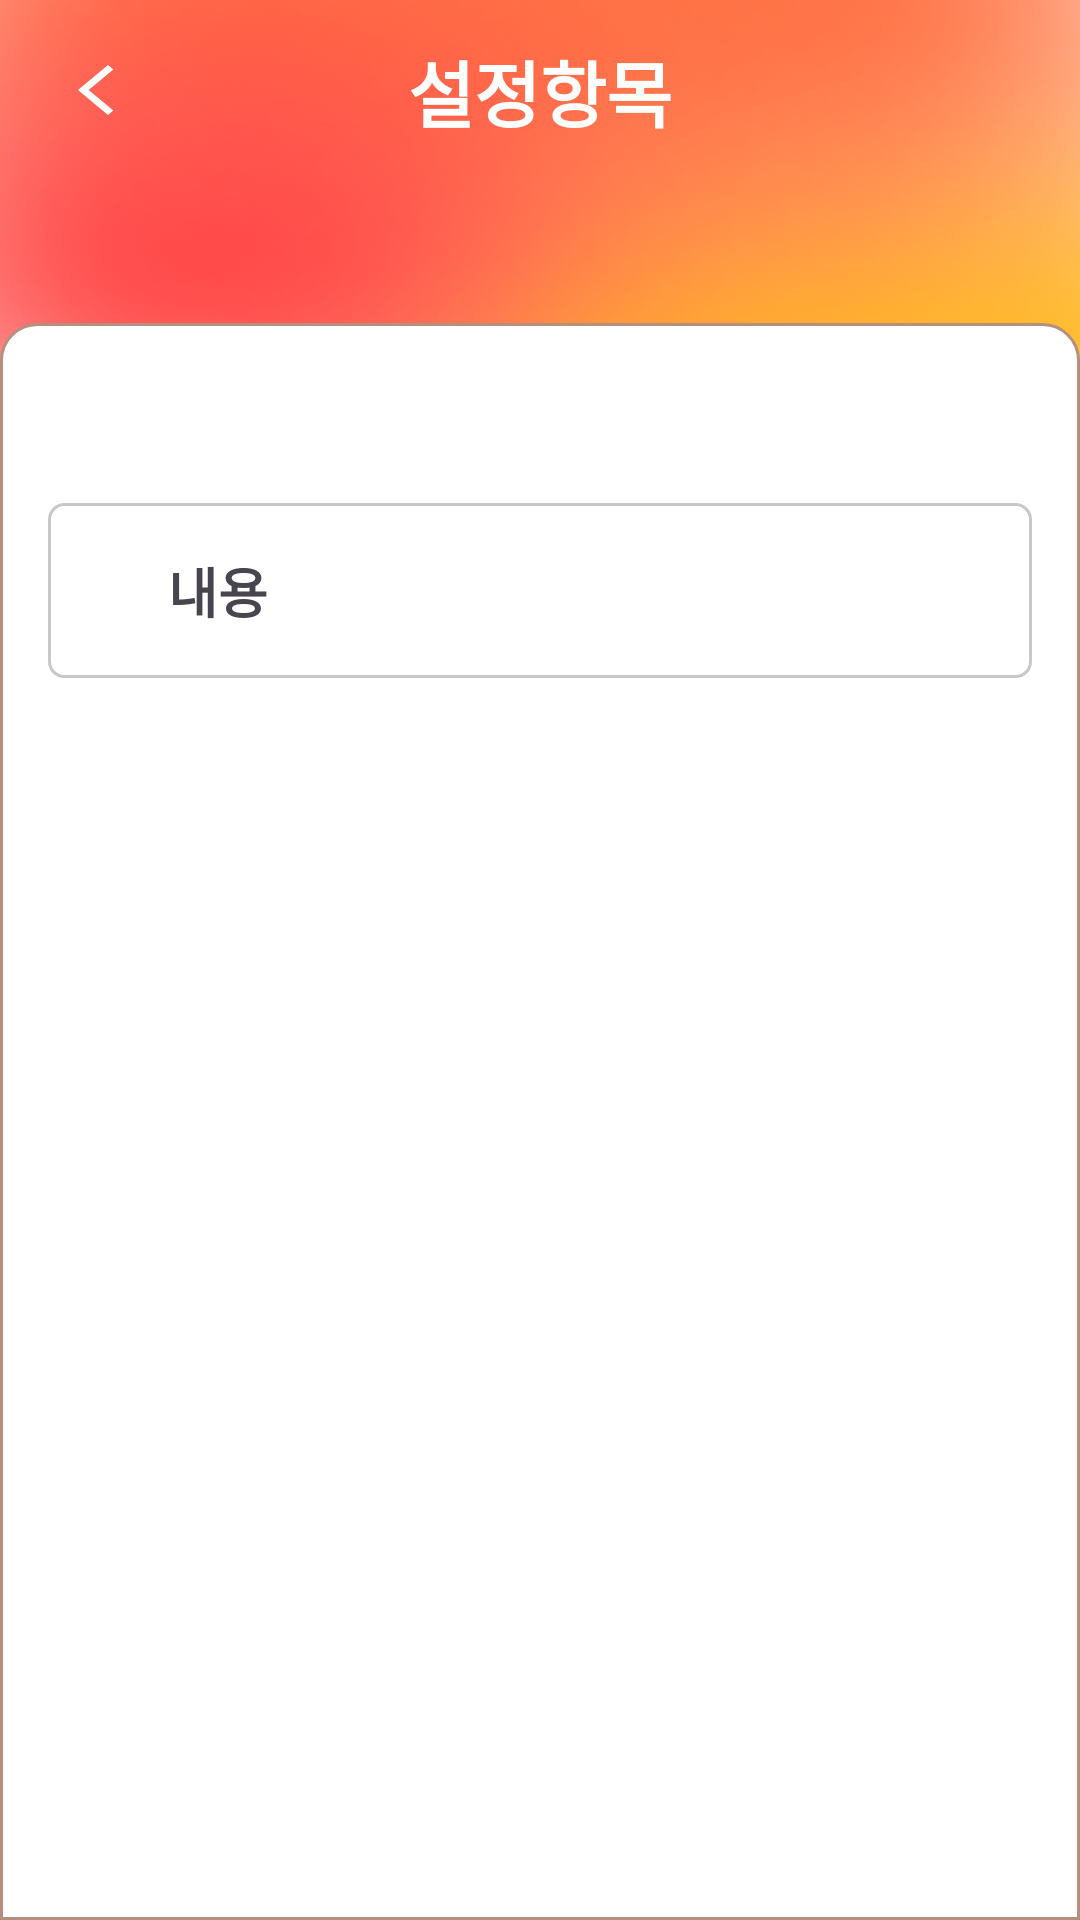

Icons on this 1080px×1920px Android screen, each with its box as (x1, y1, x2, y2):
back: (78, 65, 113, 115)
